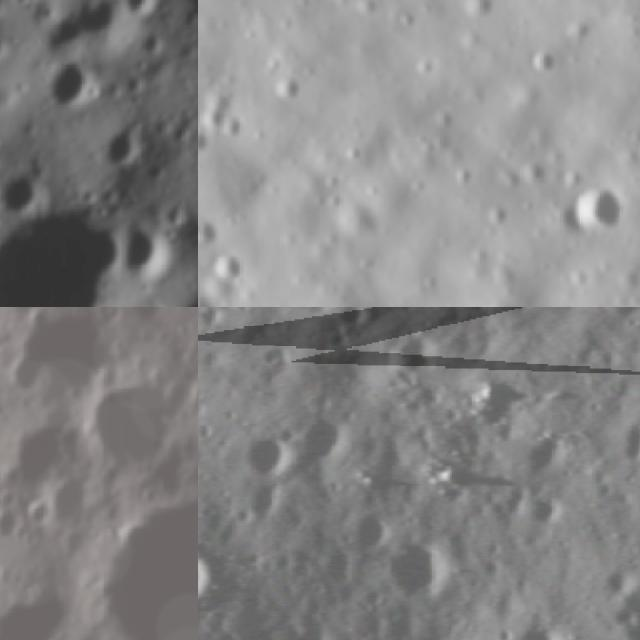crater: (0, 178, 187, 307), (82, 493, 198, 640), (74, 361, 188, 477), (6, 307, 117, 399), (22, 40, 115, 132), (98, 206, 186, 295), (558, 163, 640, 246), (376, 522, 458, 600), (84, 115, 160, 192), (280, 398, 355, 469), (377, 312, 449, 384), (0, 152, 56, 239), (231, 417, 304, 482), (512, 419, 586, 483), (256, 49, 318, 120), (341, 495, 403, 559), (198, 183, 244, 266), (592, 568, 640, 640), (233, 470, 290, 521), (516, 30, 566, 84), (497, 606, 576, 640), (525, 483, 576, 532), (447, 0, 507, 36), (198, 521, 224, 604), (464, 281, 537, 307), (280, 612, 347, 640), (610, 408, 640, 468), (298, 0, 372, 24), (333, 624, 412, 640), (0, 499, 20, 548), (124, 307, 170, 324)
